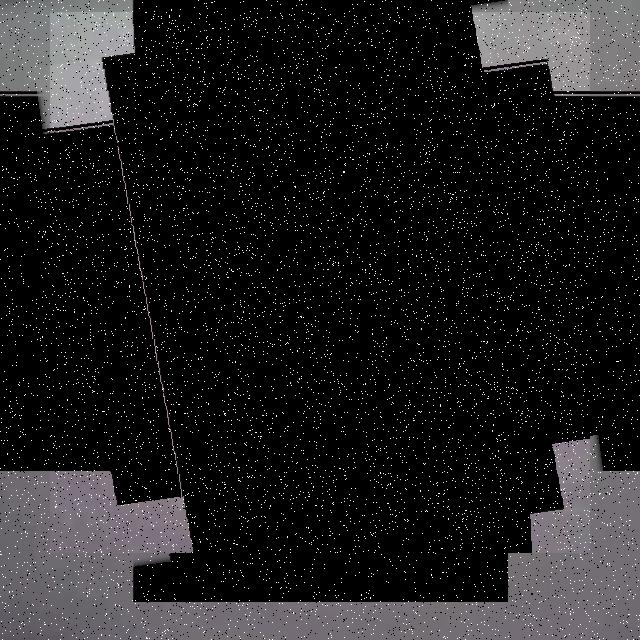dua ribu rupiah: (50, 12, 590, 553)
